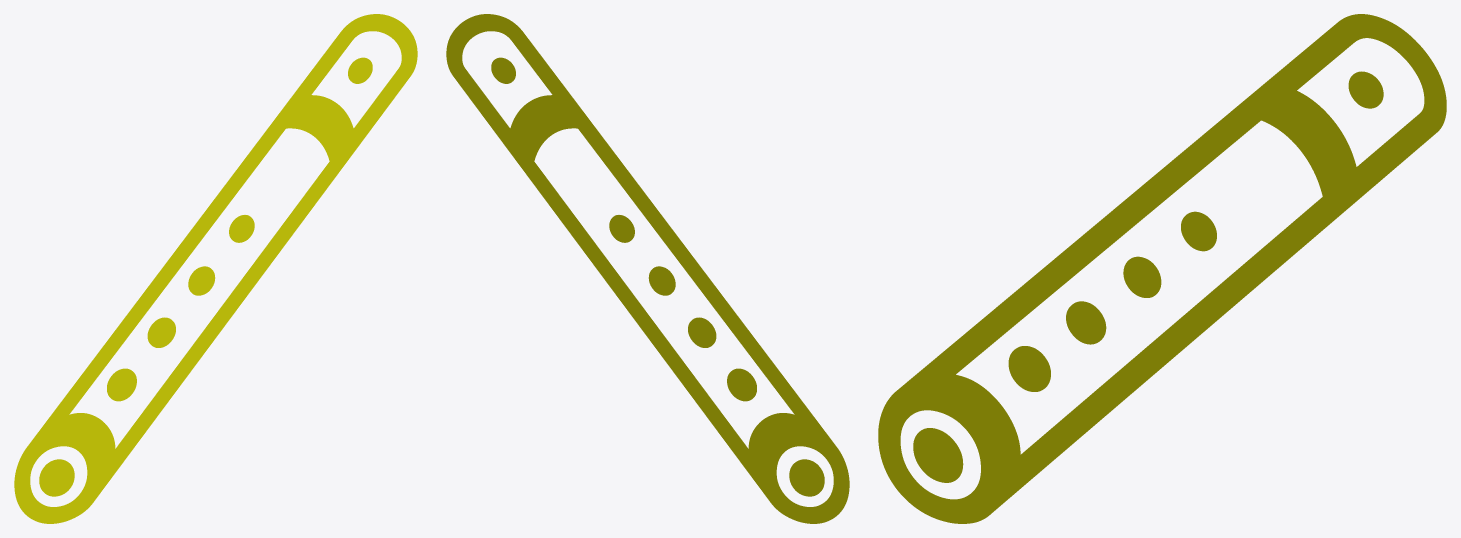
The model's file is flute.glb.
The picture shows the model from 3 angles, left to right: view 1: azimuth 30°, elevation 25°; view 2: azimuth 150°, elevation 25°; view 3: azimuth 330°, elevation 25°; orthographic projection. The views are drawn at different scales.
Visible parts, largest first — view 1: Text.689_689; view 2: Text.689_689; view 3: Text.689_689.
Part boxes in pixels (x1,y1,x2,y2): Text.689_689: (14, 14, 417, 523); Text.689_689: (446, 14, 849, 523); Text.689_689: (878, 14, 1446, 523).
Size of the model in its own units: 0.99 by 1.02 by 3.6e-06.
